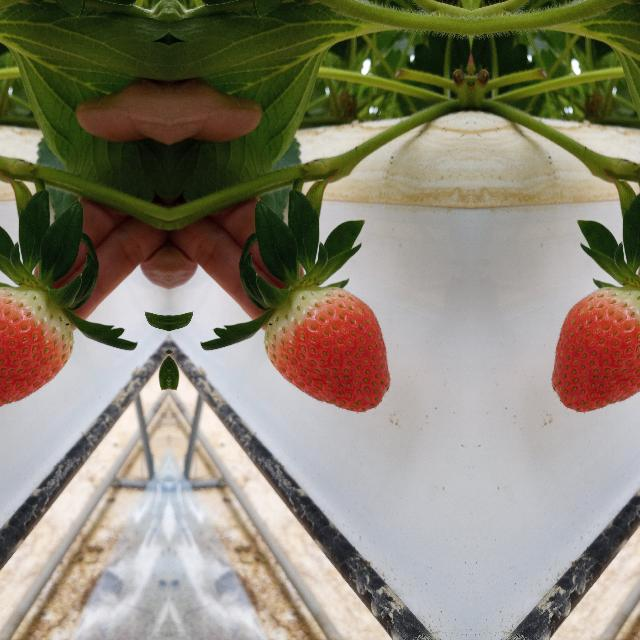Health_100: (262, 286, 390, 414), (551, 286, 640, 413), (0, 286, 73, 413)
